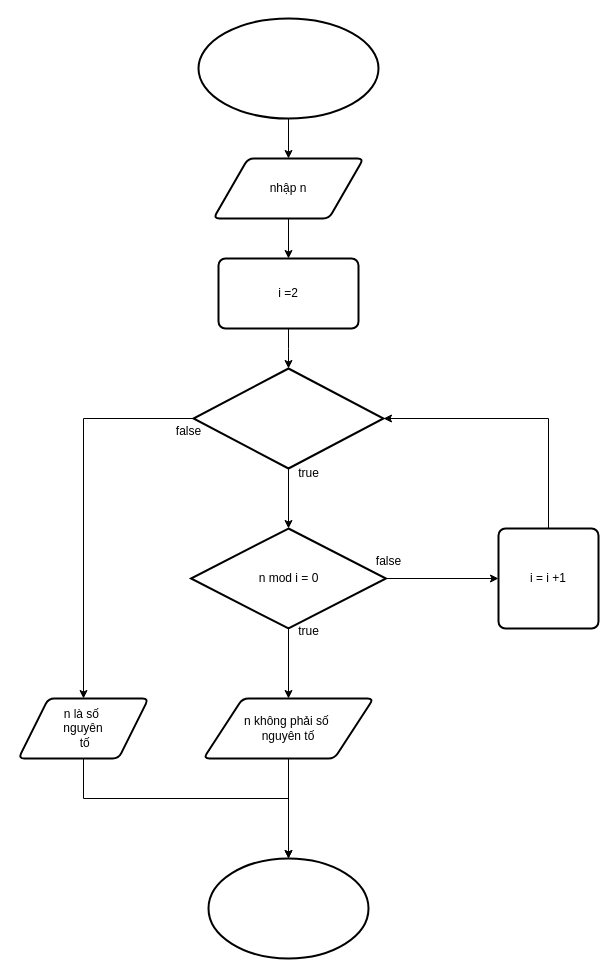
Image size: 616x976. Some labels were removed from this diagram. The shapes that lost their labels are listed below. From the top down, each one's centre as x and y in pixels, then its label:
point (288, 68): START
point (288, 418): if i <= n/2
point (288, 908): END
